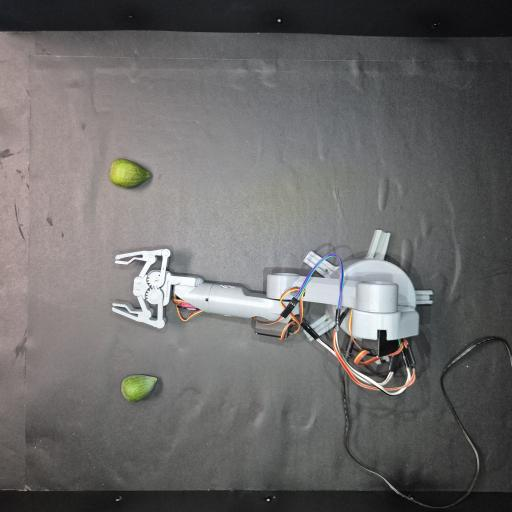higo: (113, 249, 175, 327), (110, 159, 150, 188), (121, 374, 157, 402)
